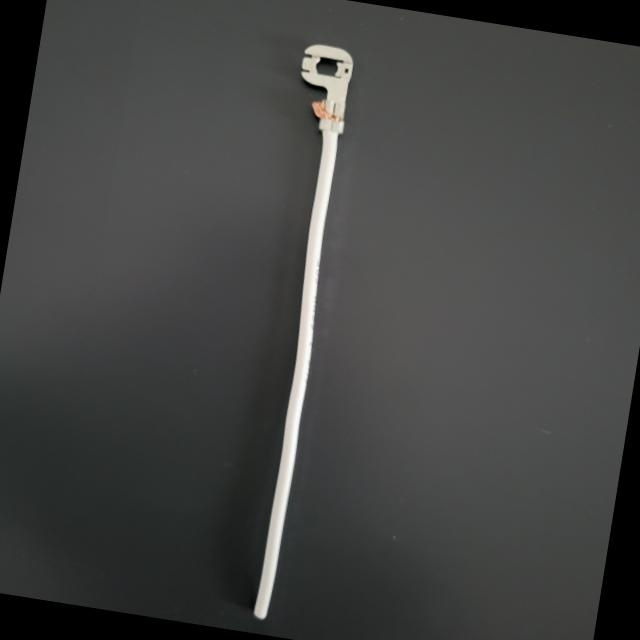defect: (220, 0, 459, 209)
